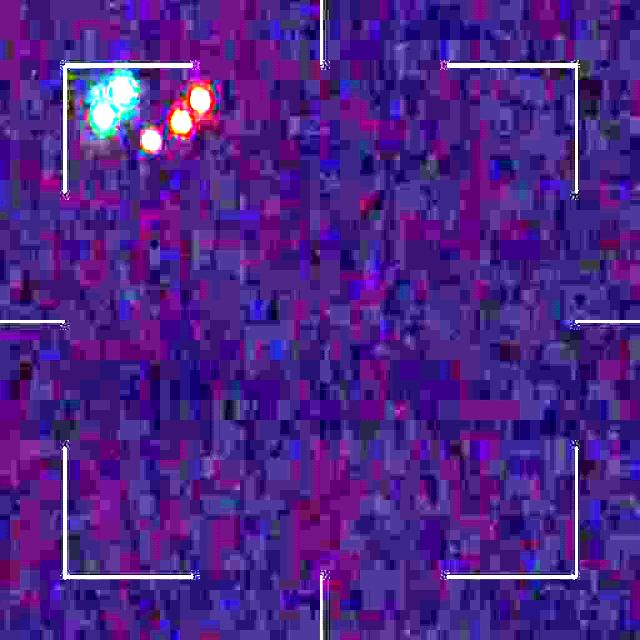bird: (96, 75, 216, 149)
